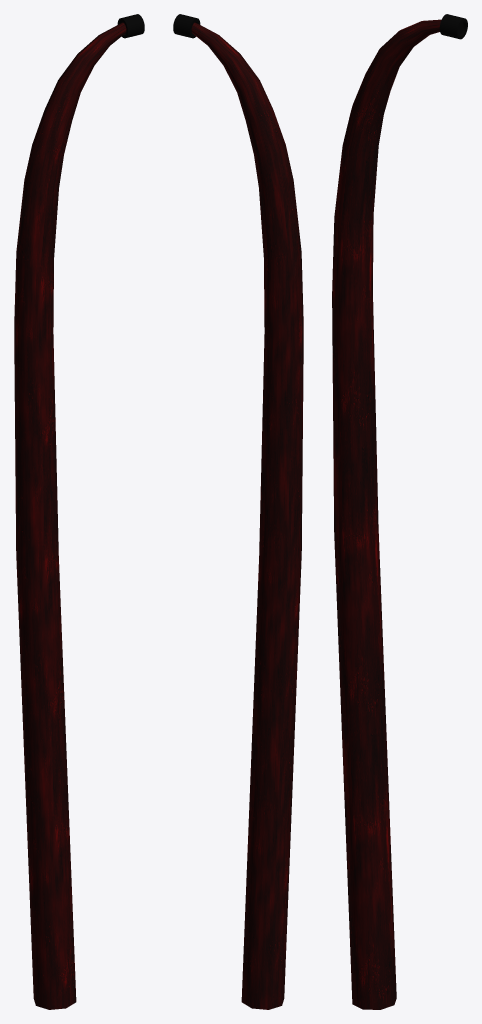
File: overflow_bloodonly.DAE
3 renders of one model, left to right at view 1: azimuth 30°, elevation 25°; view 2: azimuth 150°, elevation 25°; view 3: azimuth 330°, elevation 25°, orthographic. The views are drawn at different scales.
Parts seen in each view (by area): view 1: blood_overflow, overflow_pipe; view 2: blood_overflow, overflow_pipe; view 3: blood_overflow, overflow_pipe.
Part boxes in pixels (box(x1,y1,x2,y2)): blood_overflow: box(14, 22, 126, 1009); overflow_pipe: box(117, 14, 144, 38); blood_overflow: box(191, 22, 303, 1009); overflow_pipe: box(173, 14, 200, 38); blood_overflow: box(332, 19, 441, 1009); overflow_pipe: box(439, 14, 467, 39).
Size of the model in its own units: 3.23 by 1 by 24.11.
